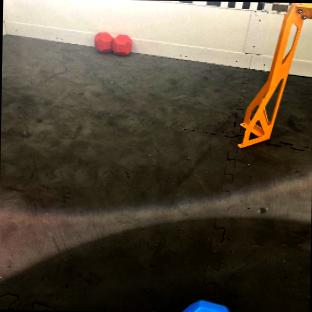Goal: (238, 2, 312, 147)
V5_BLUE: (182, 299, 229, 312)
V5_RED: (94, 32, 131, 54)
